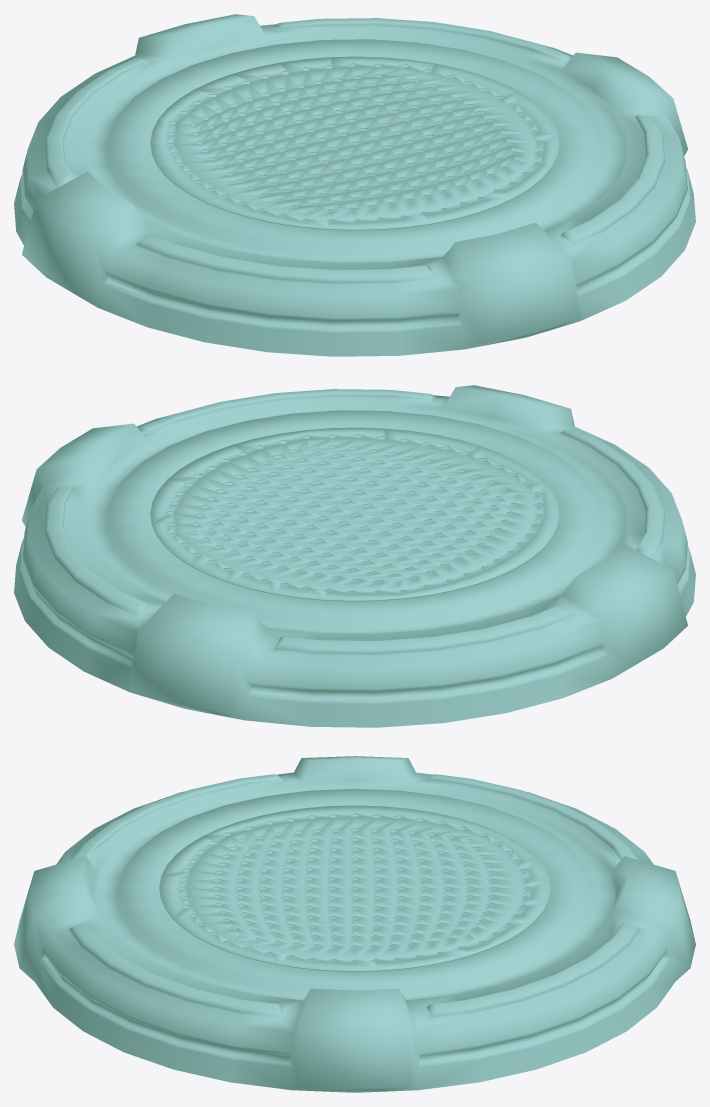
File: pedestal.glb
3 renders of one model, top to bottom at view 1: azimuth 30°, elevation 25°; view 2: azimuth 150°, elevation 25°; view 3: azimuth 270°, elevation 25°, orthographic. The views are drawn at different scales.
Visible parts, largest first — view 1: tech_pedestal_Circle.001; view 2: tech_pedestal_Circle.001; view 3: tech_pedestal_Circle.001.
Part boxes in pixels (box(x1,y1,x2,y2)): tech_pedestal_Circle.001: box(14, 14, 695, 356); tech_pedestal_Circle.001: box(14, 385, 695, 727); tech_pedestal_Circle.001: box(14, 756, 695, 1092).
Bounding box in the file's own units: 24.79 × 3.21 × 24.79.
